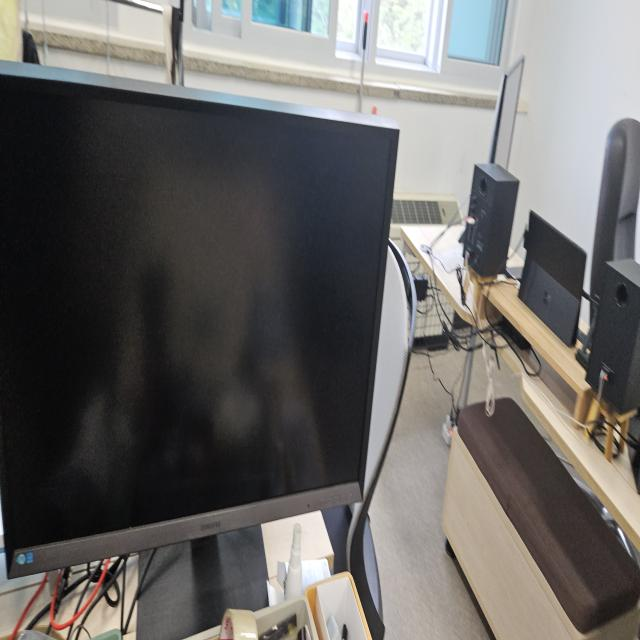Monitor: (2, 58, 400, 580)
